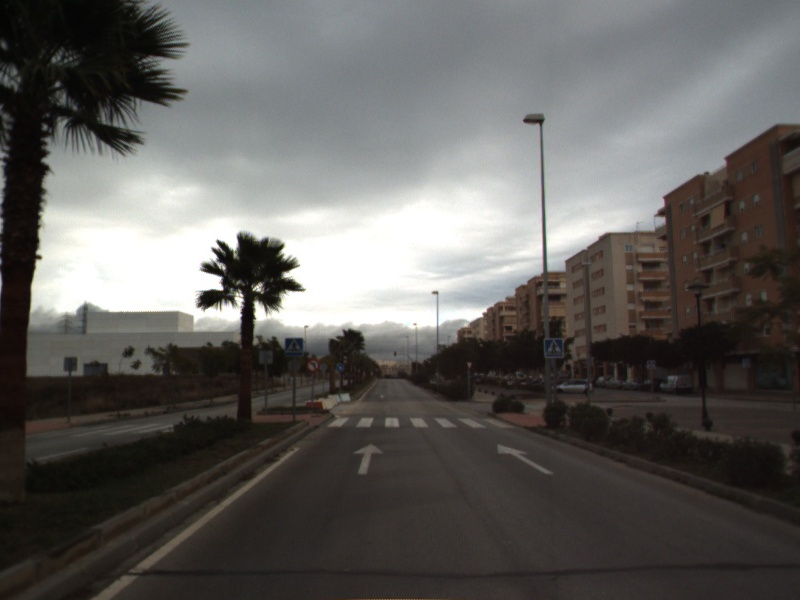STRAIGHT: (495, 442, 556, 476), (352, 441, 386, 476)
